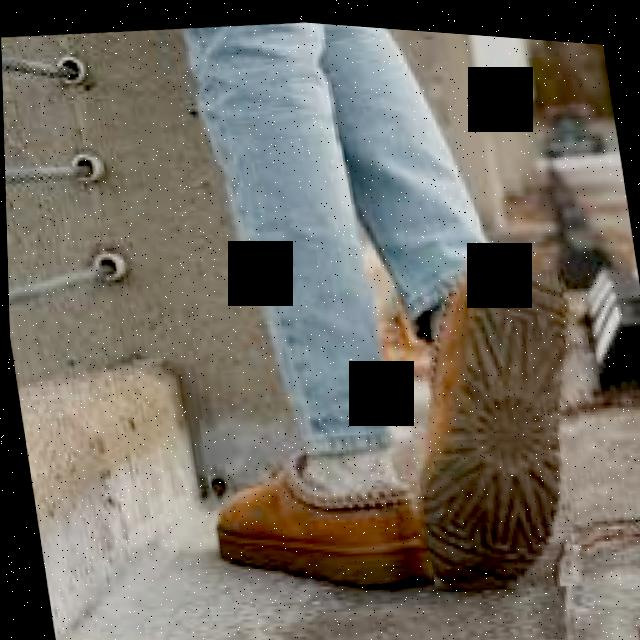shoe: (418, 255, 567, 582), (214, 451, 429, 582)
